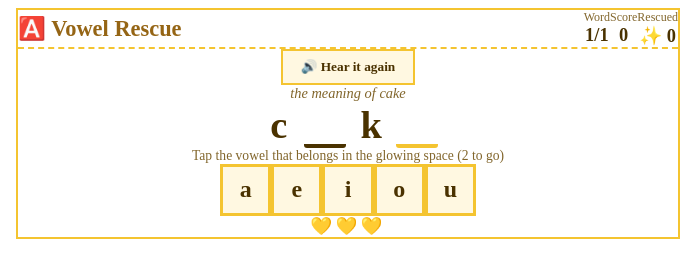
Test: Vowel Rescue › fills the vowels in order as they are tapped
Click the button "a" at (246, 190), box [220,164,271,216]
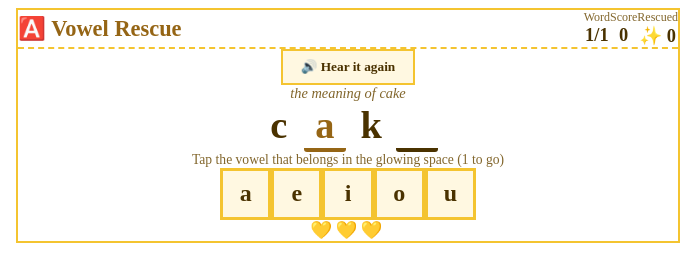
Check: the element named "The word with its vowels missing" reads "c a k", box [270,102,438,152]
Click the button "e" at (297, 194), box [271,168,322,220]
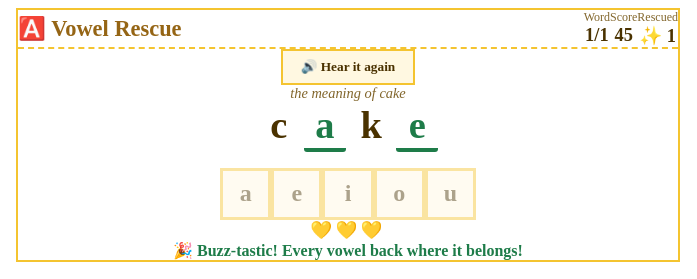
Check: the element named "The word with its vowels missing" reads "c a k e", box [270,102,438,152]
